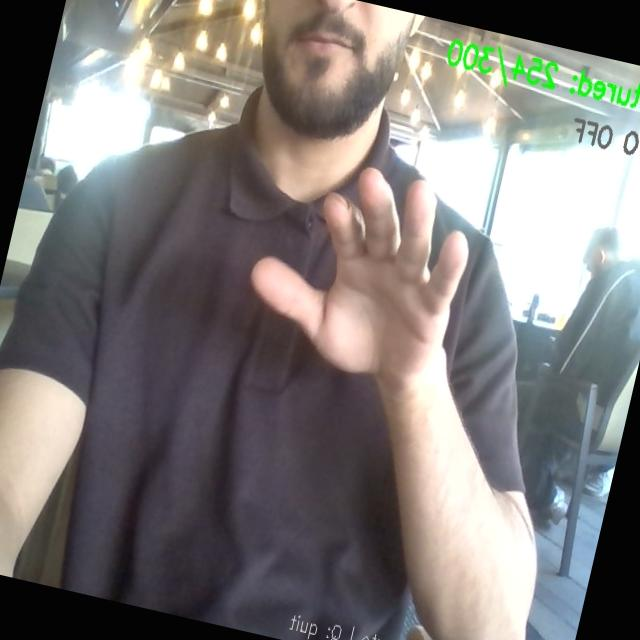Hand: (251, 169, 467, 389)
